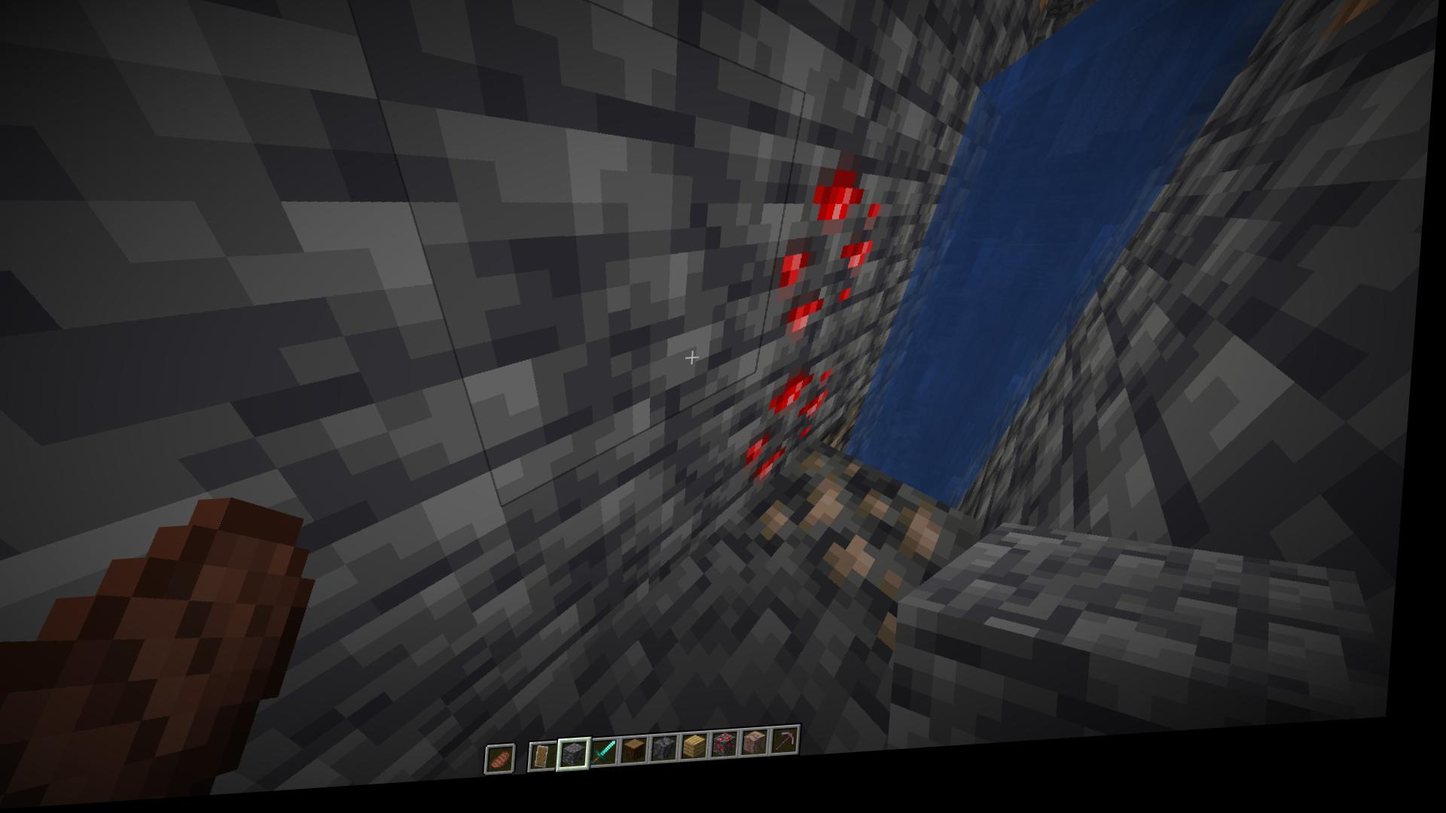iron ore: (751, 455, 980, 665)
redstone ore: (774, 155, 889, 350), (752, 368, 846, 496)
